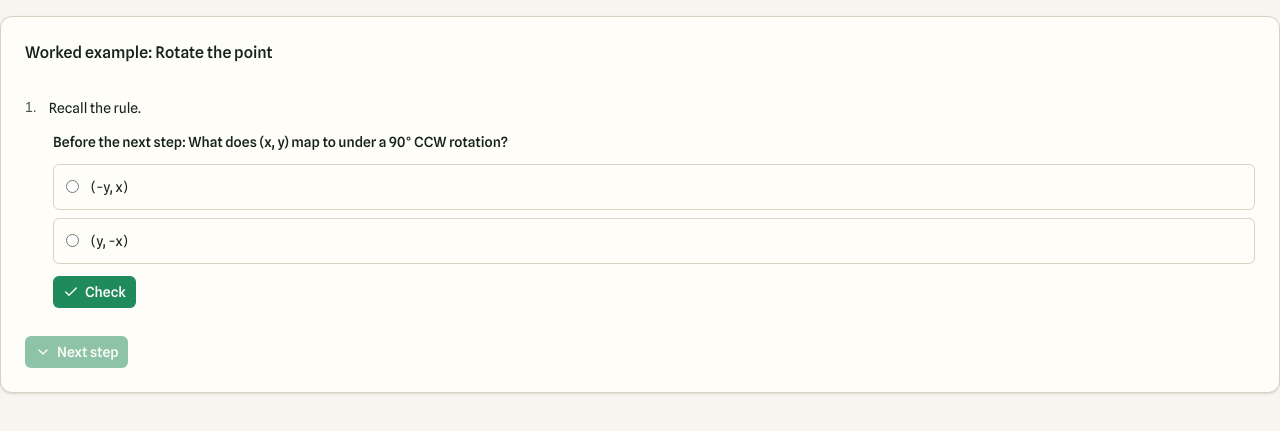
Test: WorkedExample › gates the next reveal behind a self-check; a wrong attempt gives feedback and unblocks
Expected: the button "Next step" is disabled, [25,336,128,368]
Click the radio button labelled "(y, −x)". click: (72, 241)
box: [66,234,79,247]
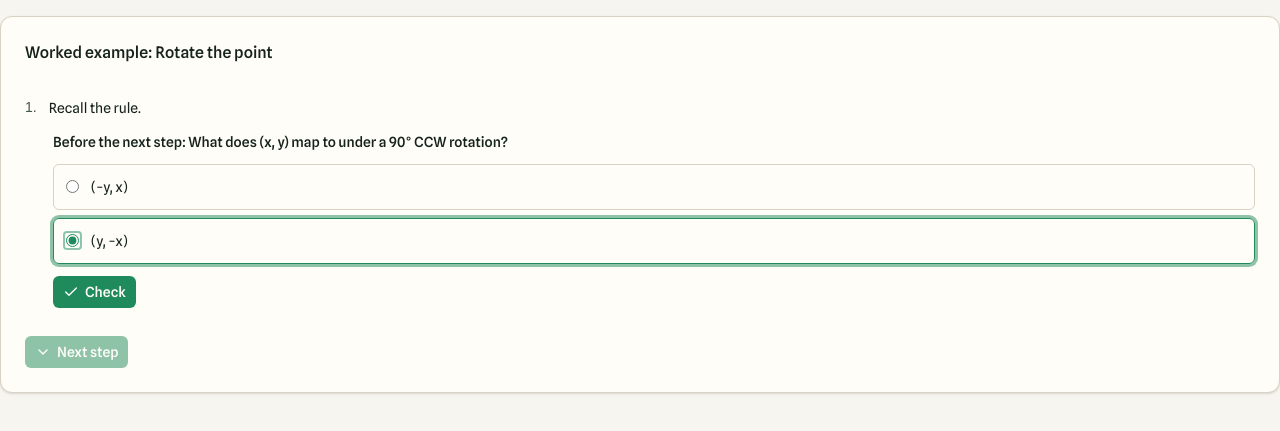
Click the button "Check". click: (94, 292)
box: [53,276,136,308]
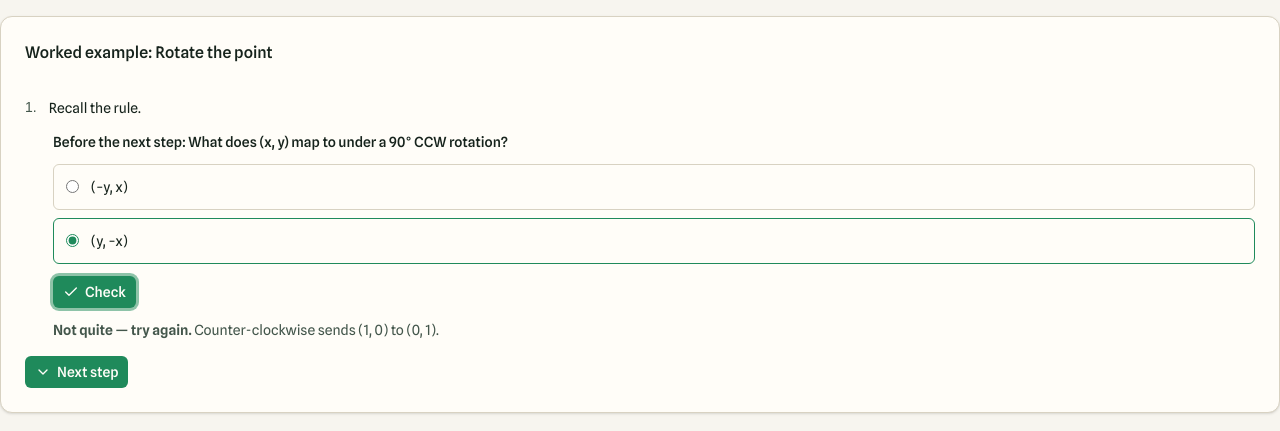
Expected: the text "Not quite — try again." is shown, [53,322,194,338]
Expected: the button "Next step" is enabled
Click the button "Next step". click: (77, 372)
box: [25,356,128,388]
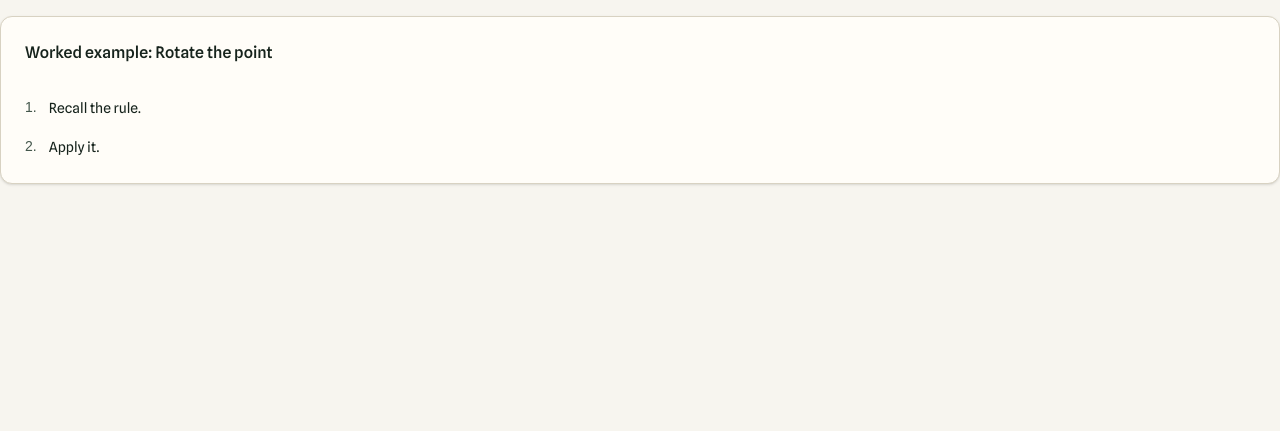
Expected: the text "Apply it." is shown, [49,136,100,159]
